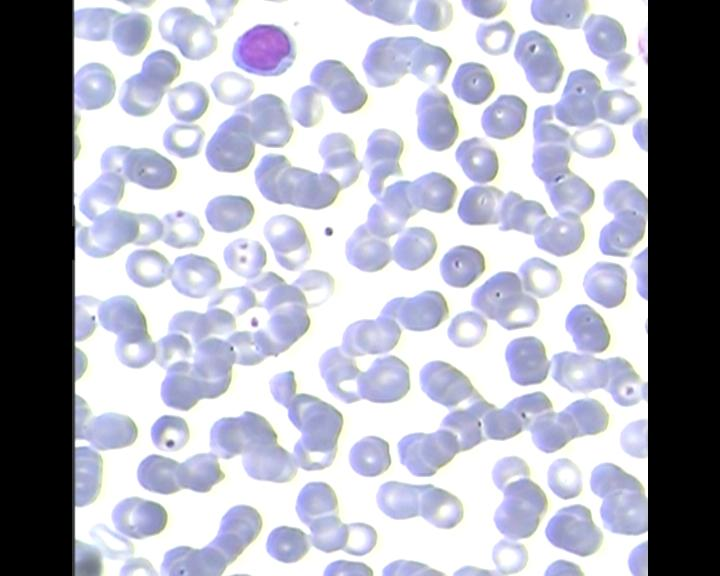lymp: (228, 16, 299, 80)
